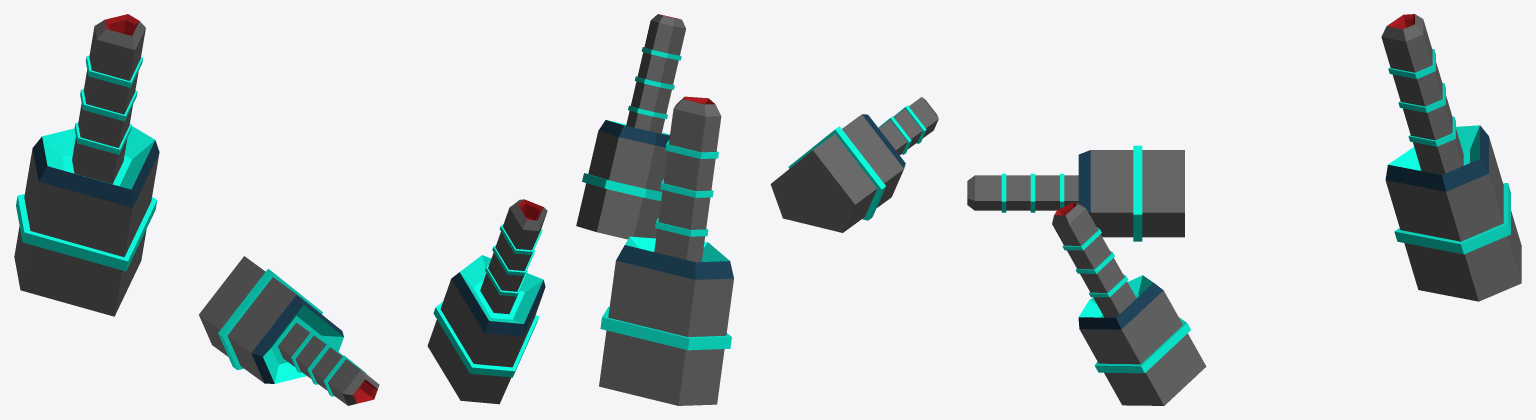
File: GunCluster.01.fbx
3 views of the same model, side by side, from view 1: azimuth 30°, elevation 25°; view 2: azimuth 150°, elevation 25°; view 3: azimuth 270°, elevation 25° (orthographic). The views are drawn at different scales.
Visible parts, largest first — view 1: GunCluster_01_LOD0; view 2: GunCluster_01_LOD0; view 3: GunCluster_01_LOD0.
Part boxes in pixels (left/top/right/bottom): GunCluster_01_LOD0: left=14, top=14, right=547, bottom=405; GunCluster_01_LOD0: left=576, top=14, right=938, bottom=405; GunCluster_01_LOD0: left=967, top=14, right=1521, bottom=405.
Size of what is drawn, in the model's own units: 3278 by 2994 by 5195.
1 material, 1 textured.
